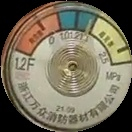green: (59, 8, 100, 34)
needle: (82, 17, 92, 46)
red: (14, 14, 62, 57)
yellow: (92, 18, 129, 65)
